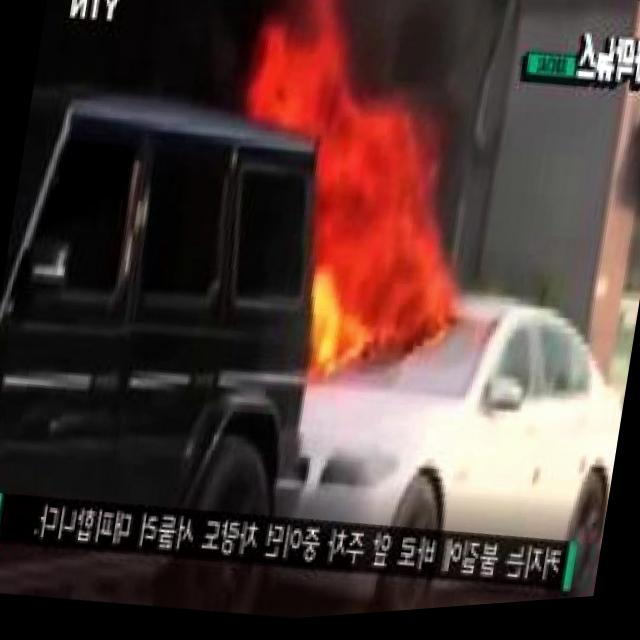Fire: (188, 0, 524, 407)
